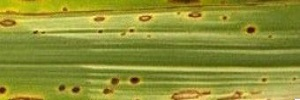RiceBrownSpot: (1, 72, 300, 100), (88, 8, 259, 38), (1, 4, 23, 35)
